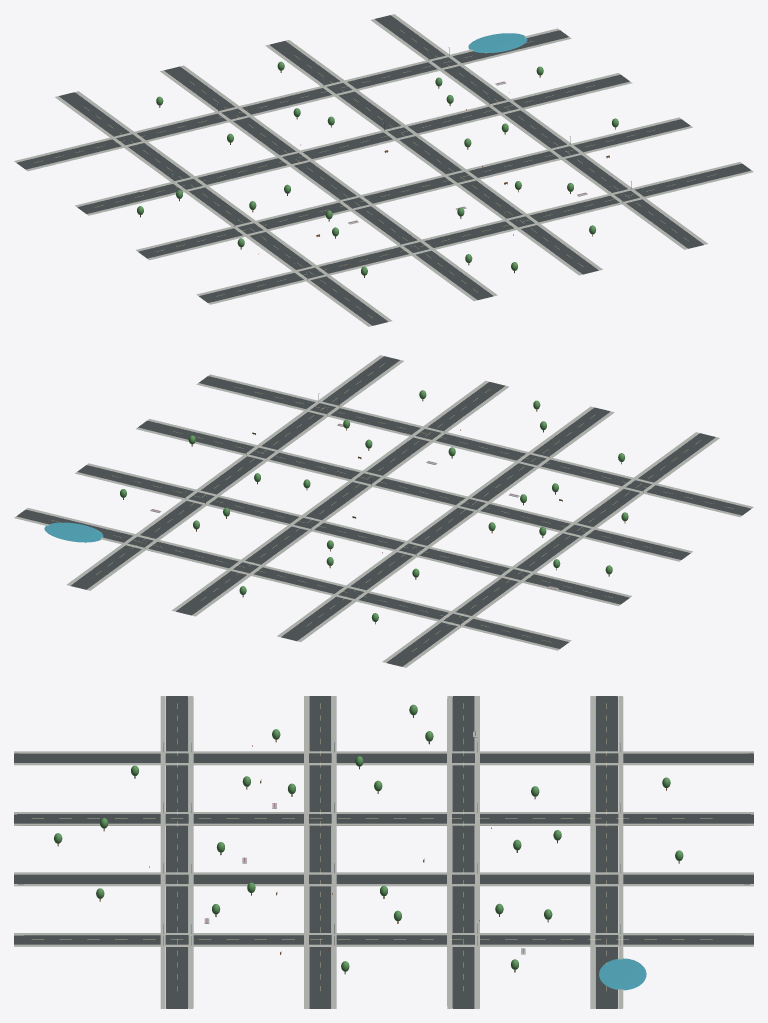
File: springfield-world.glb
The picture shows the model from 3 angles, top to bottom: view 1: azimuth 30°, elevation 25°; view 2: azimuth 150°, elevation 25°; view 3: azimuth 270°, elevation 25°; orthographic projection. The views are drawn at different scales.
Parts seen in each view (by area): view 1: Asfalto vertical.001, Asfalto vertical.003, Asfalto vertical.002, Asfalto vertical, Asfalto horizontal.003, Asfalto horizontal.002, Asfalto horizontal.001, Asfalto horizontal, Anden horizontal.004, Anden horizontal.007, Anden horizontal.002, Anden horizontal.001 (+13 smaller); view 2: Asfalto vertical.001, Asfalto vertical.003, Asfalto vertical.002, Asfalto vertical, Asfalto horizontal.003, Asfalto horizontal.001, Asfalto horizontal.002, Asfalto horizontal, Anden horizontal.001, Anden horizontal.007, Anden horizontal.005, Anden horizontal.003 (+13 smaller); view 3: Asfalto vertical.002, Asfalto vertical.003, Asfalto vertical.001, Asfalto vertical, Asfalto horizontal.002, Asfalto horizontal.003, Asfalto horizontal.001, Asfalto horizontal, Anden vertical.004, Anden vertical, Anden vertical.007, Anden vertical.001 (+13 smaller).
Part boxes in pixels (x1=…): Asfalto vertical.001: x1=164, y1=66, x2=493, y2=299; Asfalto vertical.003: x1=374, y1=15, x2=703, y2=248; Asfalto vertical.002: x1=269, y1=41, x2=598, y2=274; Asfalto vertical: x1=59, y1=92, x2=388, y2=325; Asfalto horizontal.003: x1=199, y1=163, x2=751, y2=302; Asfalto horizontal.002: x1=138, y1=119, x2=690, y2=258; Asfalto horizontal.001: x1=77, y1=74, x2=629, y2=213; Asfalto horizontal: x1=16, y1=30, x2=568, y2=169; Anden horizontal.004: x1=136, y1=117, x2=680, y2=251; Anden horizontal.007: x1=208, y1=170, x2=753, y2=304; Anden horizontal.002: x1=75, y1=73, x2=620, y2=206; Anden horizontal.001: x1=26, y1=37, x2=571, y2=171; Asfalto vertical.001: x1=281, y1=407, x2=610, y2=641; Asfalto vertical.003: x1=70, y1=356, x2=399, y2=589; Asfalto vertical.002: x1=176, y1=382, x2=505, y2=615; Asfalto vertical: x1=386, y1=433, x2=715, y2=666; Asfalto horizontal.003: x1=199, y1=376, x2=751, y2=515; Asfalto horizontal.001: x1=77, y1=465, x2=629, y2=604; Asfalto horizontal.002: x1=138, y1=420, x2=690, y2=559; Asfalto horizontal: x1=16, y1=509, x2=568, y2=648; Anden horizontal.001: x1=26, y1=508, x2=571, y2=641; Anden horizontal.007: x1=208, y1=374, x2=753, y2=508; Anden horizontal.005: x1=147, y1=419, x2=692, y2=552; Anden horizontal.003: x1=87, y1=463, x2=631, y2=597; Asfalto vertical.002: x1=14, y1=874, x2=753, y2=884; Asfalto vertical.003: x1=14, y1=935, x2=753, y2=944; Asfalto vertical.001: x1=14, y1=814, x2=753, y2=823; Asfalto vertical: x1=14, y1=753, x2=753, y2=762; Asfalto horizontal.002: x1=309, y1=696, x2=331, y2=1008; Asfalto horizontal.003: x1=166, y1=696, x2=188, y2=1008; Asfalto horizontal.001: x1=452, y1=696, x2=474, y2=1008; Asfalto horizontal: x1=595, y1=696, x2=617, y2=1008; Anden vertical.004: x1=14, y1=872, x2=753, y2=874; Anden vertical: x1=14, y1=751, x2=753, y2=753; Anden vertical.007: x1=14, y1=944, x2=753, y2=946; Anden vertical.001: x1=14, y1=763, x2=753, y2=765.
Bounding box in the file's own units: 372 × 7.18 × 372.
